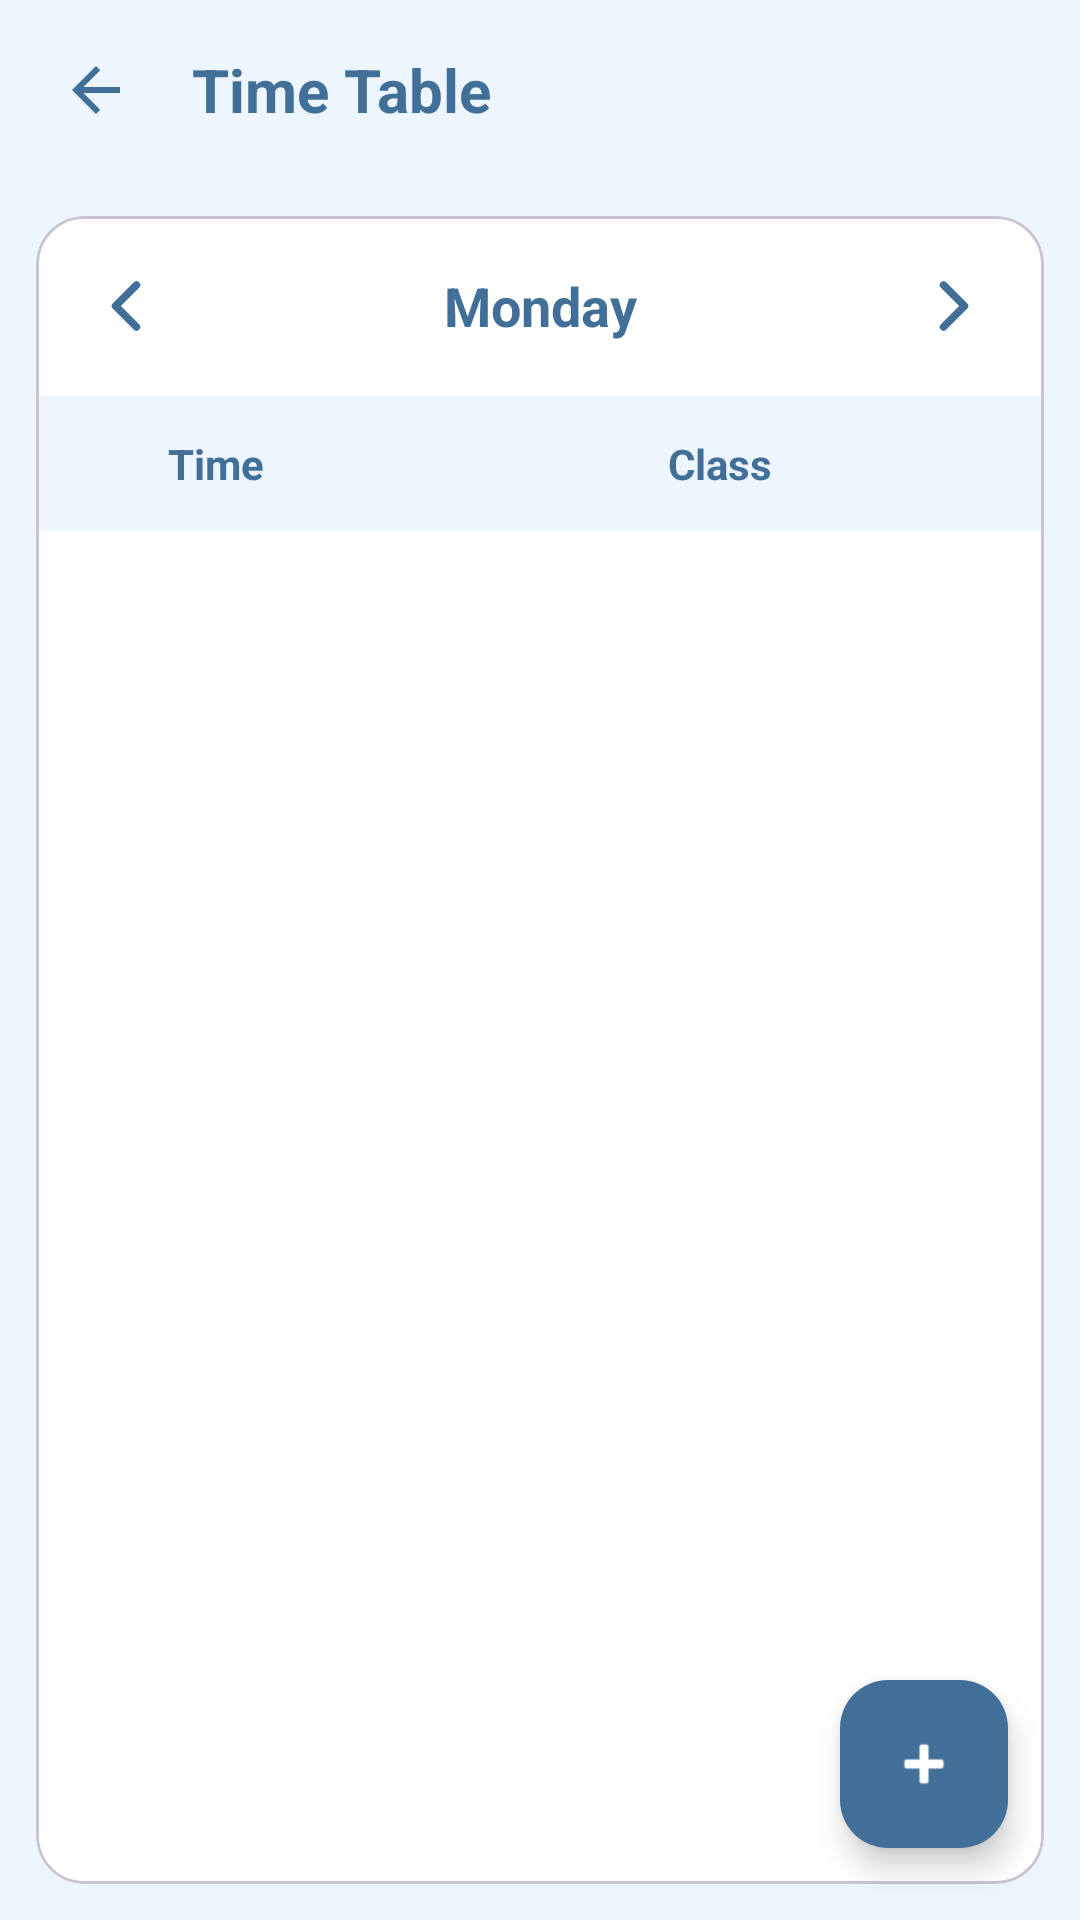

Named icons in this screenshot (1080x1920) and their centers, [x,y]:
add: [924,1764]
back: [96,90]
cal back: [126,306]
cal next: [954,306]
